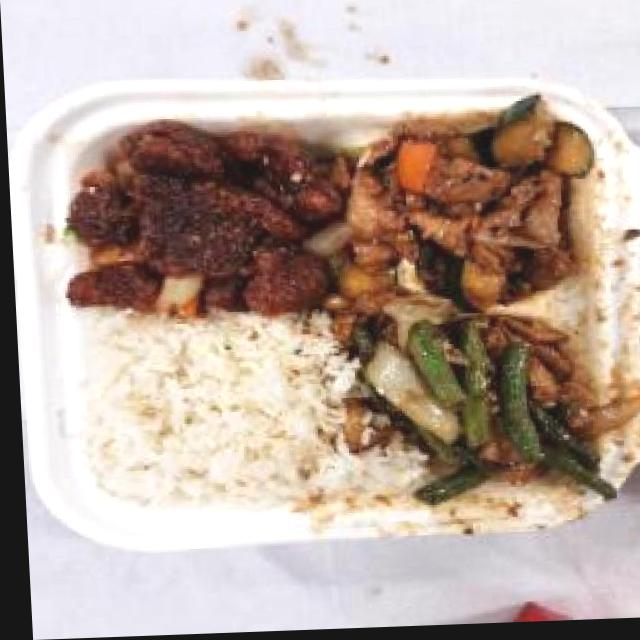Beijing Beef: (55, 113, 341, 325)
Kung Pao Chicken: (320, 103, 608, 321)
String Bean Chicken Breast: (354, 318, 611, 510)
White Steamed Rice: (78, 318, 334, 513)
